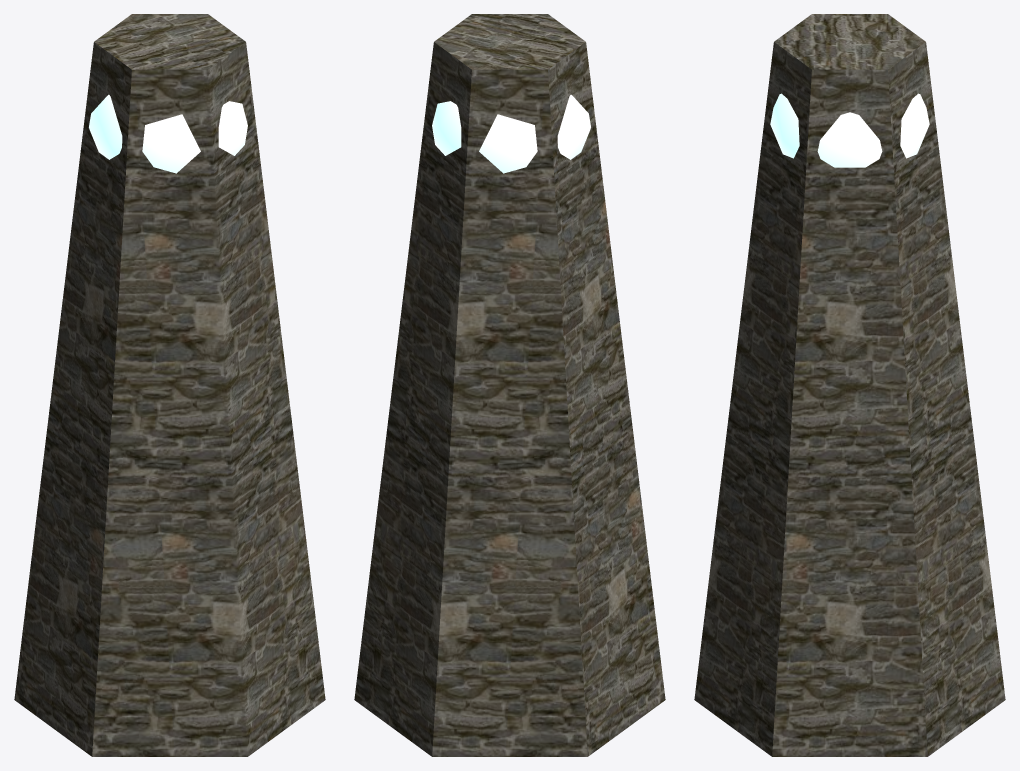
Rendered from prop_seal_stone.glb.
3 renders of one model, left to right at view 1: azimuth 30°, elevation 25°; view 2: azimuth 150°, elevation 25°; view 3: azimuth 270°, elevation 25°, orthographic.
Parts seen in each view (by area): view 1: PROP_SealStone; view 2: PROP_SealStone; view 3: PROP_SealStone.
Boxes of the visible parts, x1=… form: PROP_SealStone: x1=14, y1=14, x2=325, y2=756; PROP_SealStone: x1=354, y1=14, x2=665, y2=756; PROP_SealStone: x1=694, y1=14, x2=1005, y2=756.
Bounding box in the file's own units: 0.7794 × 2.1 × 0.9.
Materials: 2 (1 with a texture image).
